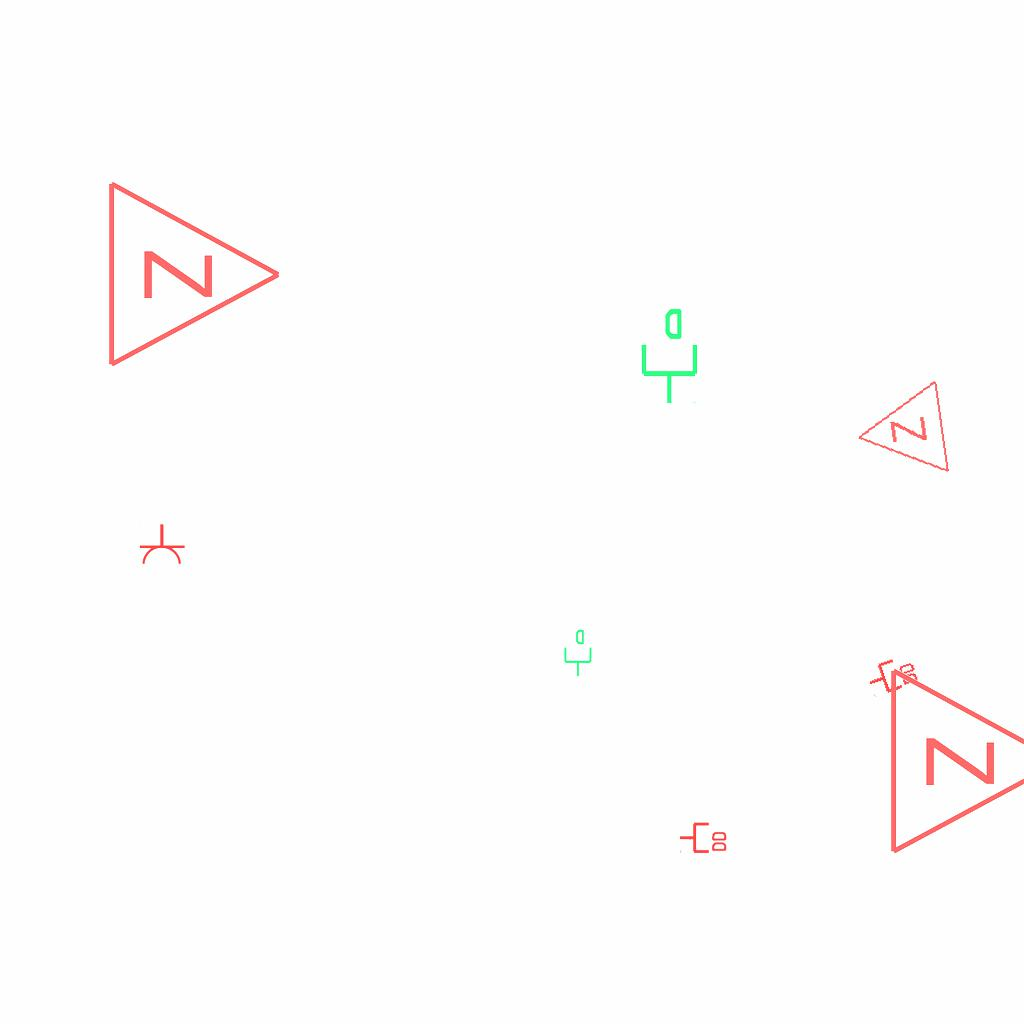Datenanschluss_einfach: (633, 306, 702, 406), (560, 628, 594, 678)
Datenanschluss_zweifach: (862, 650, 922, 699), (678, 820, 729, 854)
Schukosteckdose_einfach: (136, 523, 186, 566)
Zimmersignalleuchte: (94, 174, 294, 370), (876, 661, 1024, 857), (844, 377, 958, 489)
